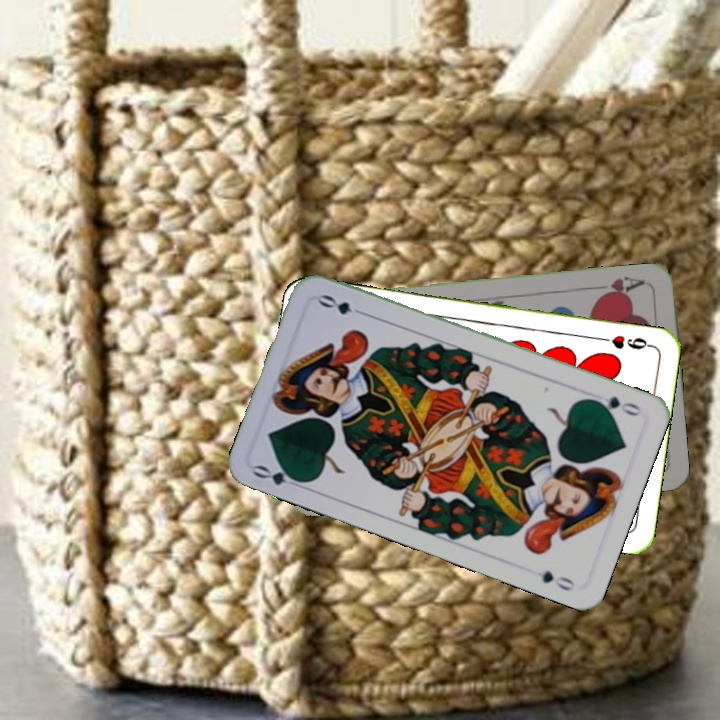GO: (249, 460, 309, 492), (586, 392, 644, 419)
H9: (596, 331, 655, 353)
HA: (590, 272, 647, 301)
